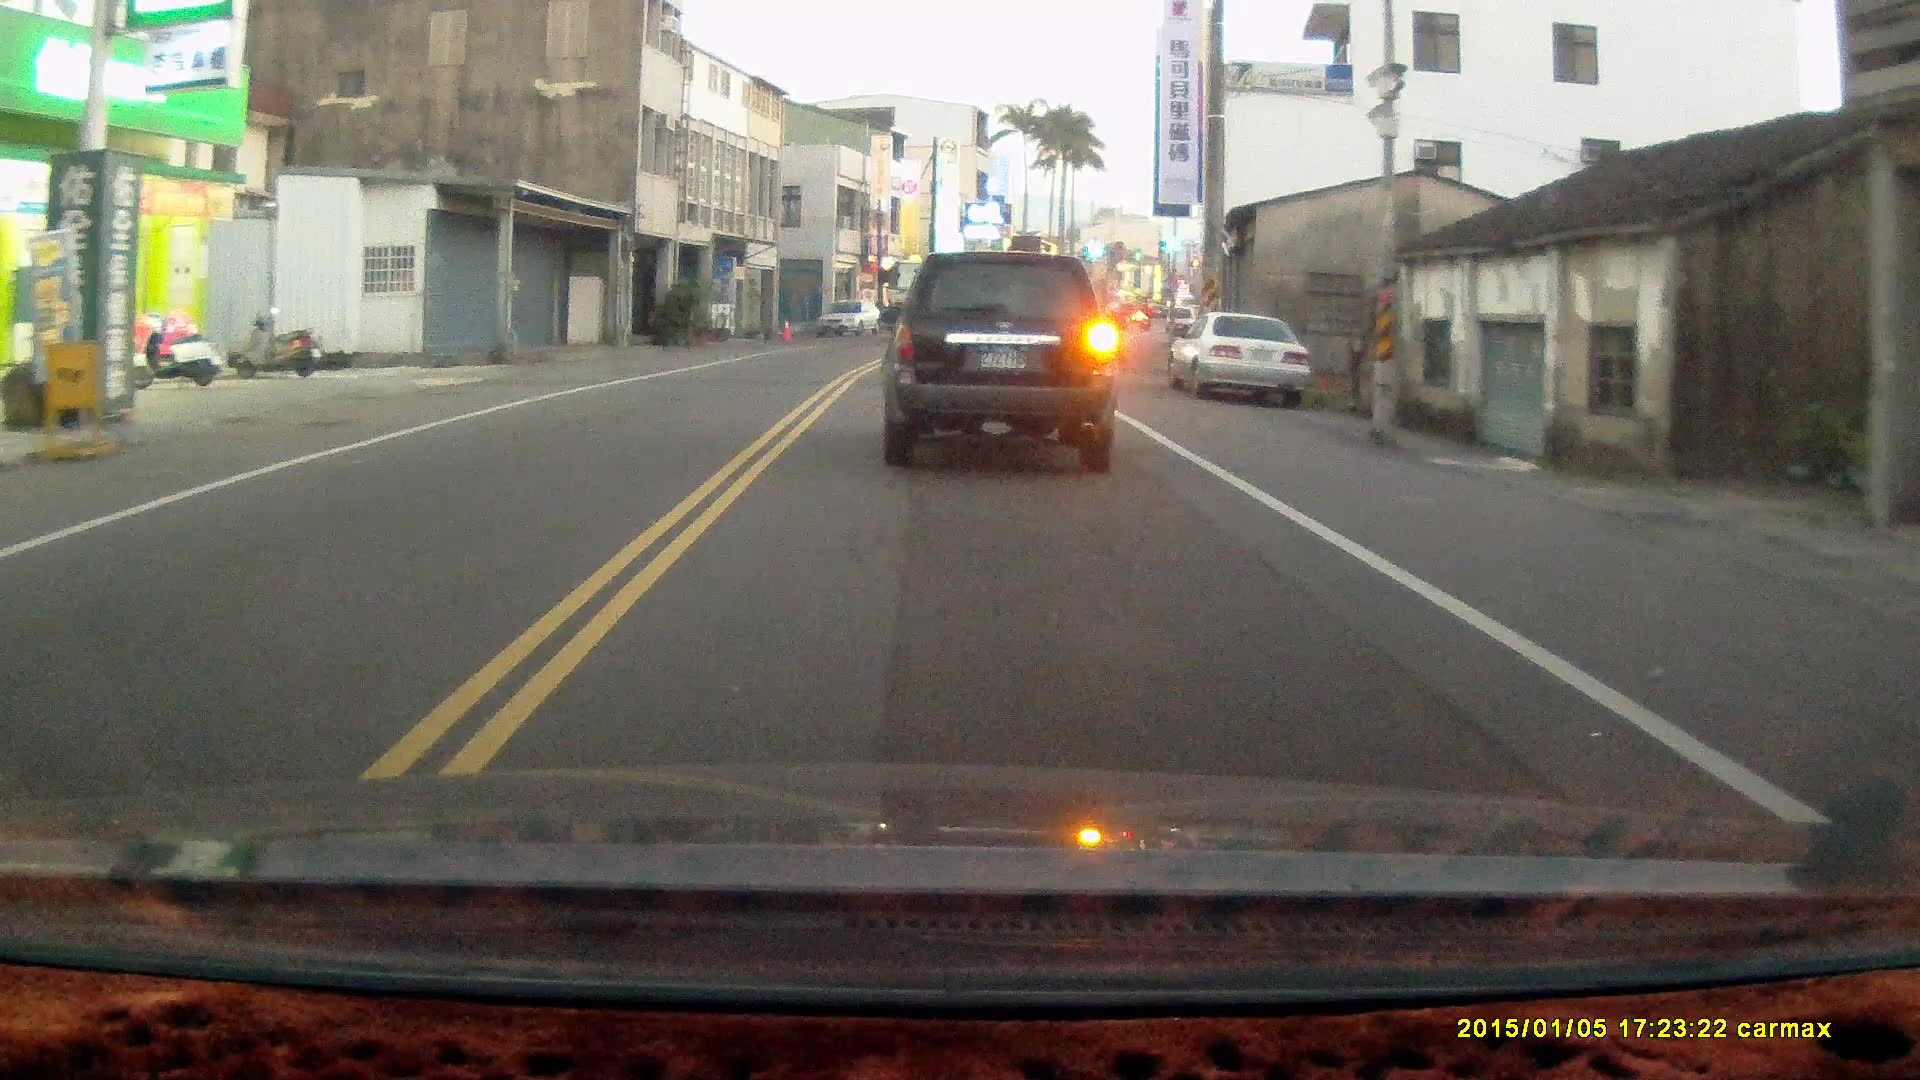rider: (1099, 298, 1129, 371)
vehicle: (881, 247, 1122, 476), (1171, 311, 1313, 401), (818, 298, 882, 344)
